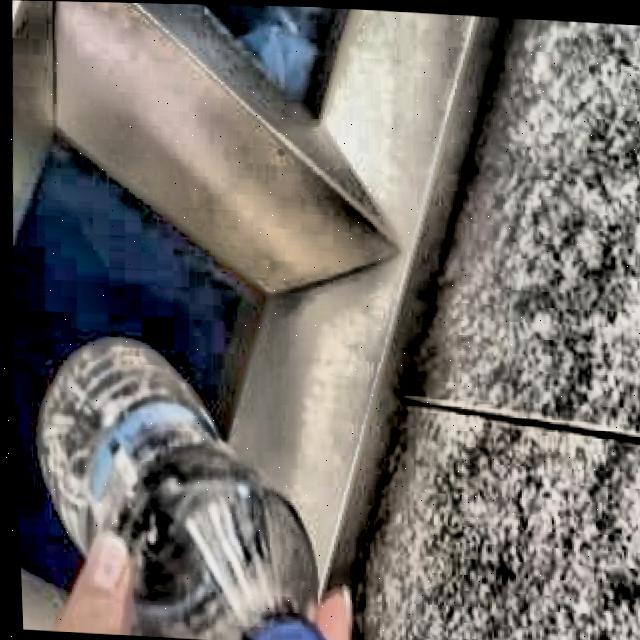plastic: (35, 353, 321, 640)
